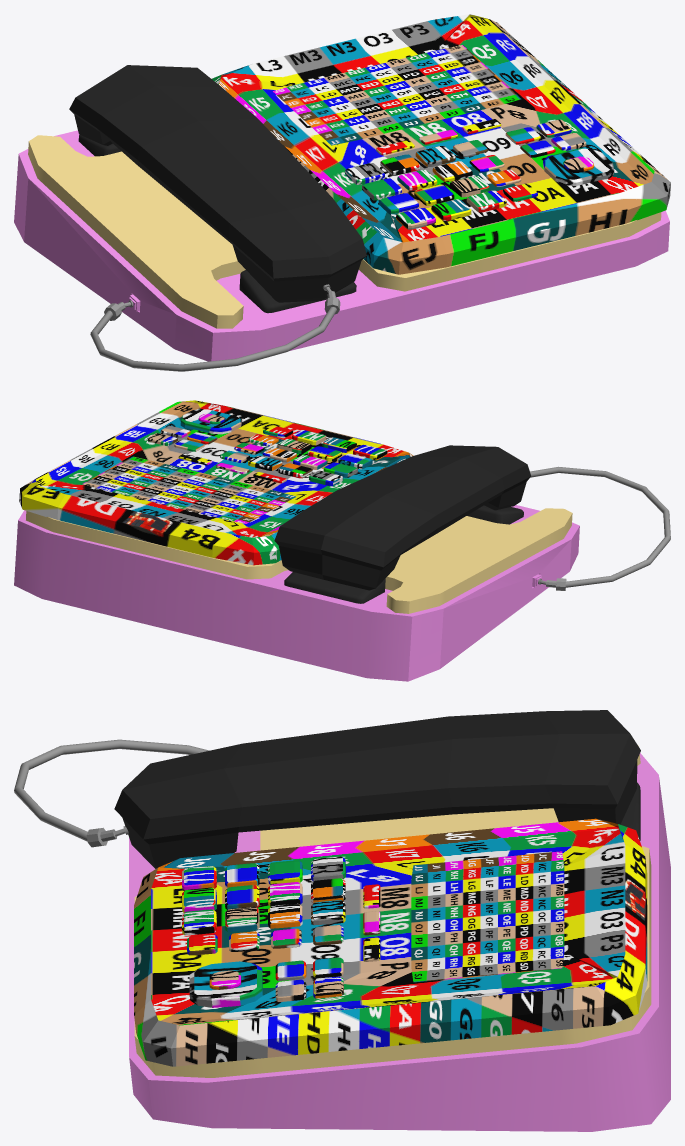
Rendered from landlinephone.FBX.
3 renders of one model, top to bottom at view 1: azimuth 30°, elevation 25°; view 2: azimuth 150°, elevation 25°; view 3: azimuth 270°, elevation 25°, orthographic. The views are drawn at different scales.
Parts seen in each view (by area): view 1: Box001, Plane001, Box002, landline, Buttons, Cylinder003, ChamferBox024, ChamferBox027, ChamferBox013, ChamferBox014, ChamferBox015, ChamferBox004 (+8 smaller); view 2: Box002, Box001, Plane001, landline, Buttons, Cylinder003, ChamferBox026, ChamferBox024, ChamferBox027; view 3: Box001, Plane001, Box002, Buttons, landline, Cylinder003, ChamferBox024, ChamferBox013, ChamferBox010, ChamferBox006, ChamferBox007, ChamferBox005 (+9 smaller).
Boxes of the visible parts, box(x1,y1,x2,y2) form: Box001: box(212, 14, 670, 274); Plane001: box(69, 65, 366, 302); Box002: box(14, 130, 669, 361); landline: box(28, 45, 661, 328); Buttons: box(273, 45, 521, 145); Cylinder003: box(90, 307, 336, 371); ChamferBox024: box(543, 148, 614, 185); ChamferBox027: box(239, 270, 356, 313); ChamferBox013: box(466, 190, 506, 212); ChamferBox014: box(431, 199, 471, 220); ChamferBox015: box(396, 208, 435, 229); ChamferBox004: box(345, 163, 384, 184); Box002: box(14, 505, 579, 681); Box001: box(19, 400, 413, 565); Plane001: box(274, 445, 530, 590); landline: box(26, 457, 572, 613); Buttons: box(82, 456, 295, 523); Cylinder003: box(530, 466, 670, 587); ChamferBox026: box(284, 572, 385, 603); ChamferBox024: box(180, 409, 242, 434); ChamferBox027: box(467, 505, 523, 524); Box001: box(134, 818, 647, 1066); Plane001: box(114, 710, 640, 868); Box002: box(129, 753, 670, 1131); Buttons: box(411, 851, 564, 982); landline: box(134, 745, 651, 1077); Cylinder003: box(14, 739, 208, 841); ChamferBox024: box(189, 961, 262, 1007); ChamferBox013: box(182, 909, 216, 935); ChamferBox010: box(225, 906, 259, 931); ChamferBox006: box(311, 900, 345, 925); ChamferBox007: box(268, 903, 302, 928); ChamferBox005: box(311, 878, 345, 903).
Size of the model in its own units: 17.82 by 4.13 by 14.13.
Materials: 5 (1 with a texture image).
